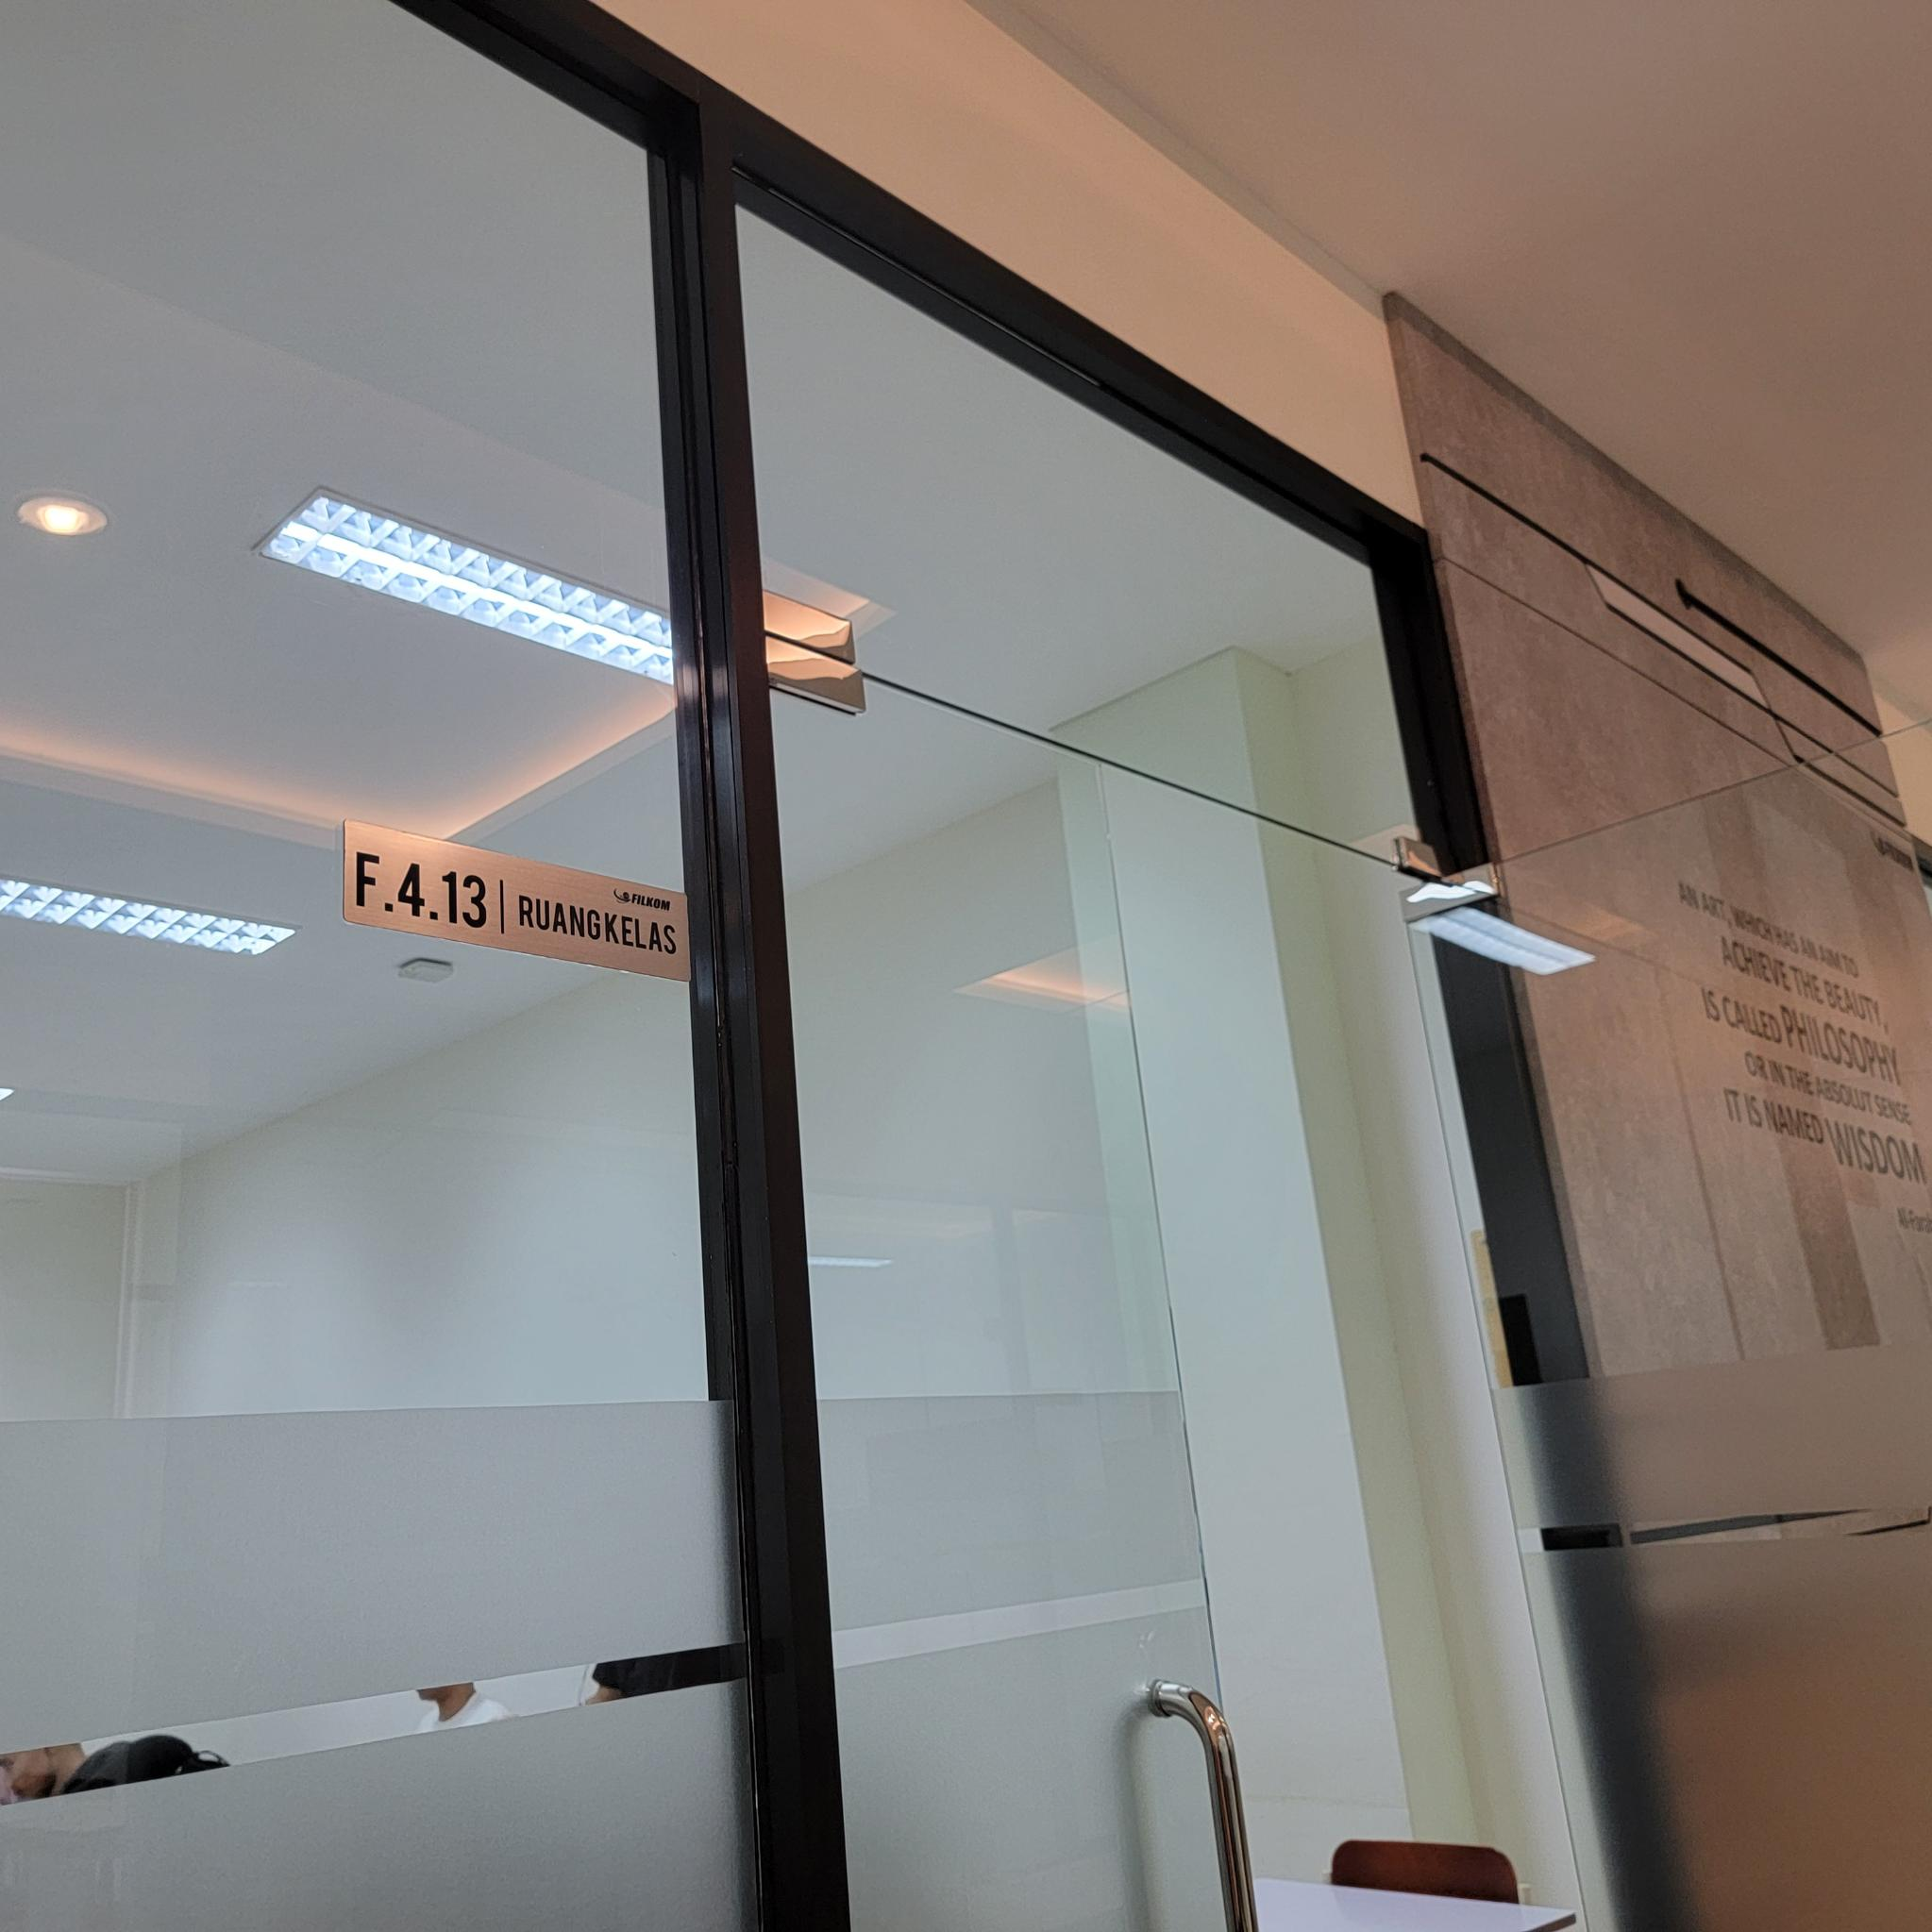plate: (343, 816, 694, 985)
